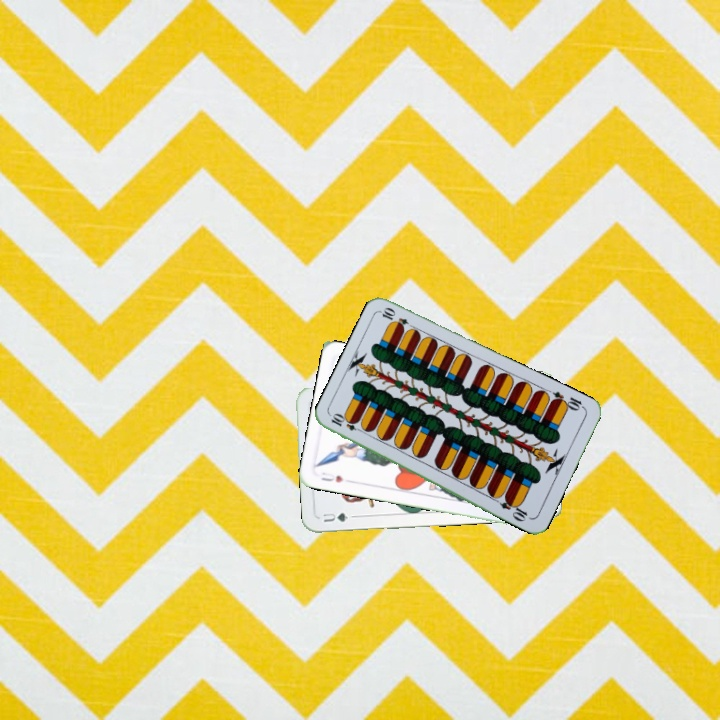E10: (547, 387, 587, 413), (327, 411, 367, 435)
GU: (319, 509, 351, 525)
HU: (317, 468, 346, 485)
